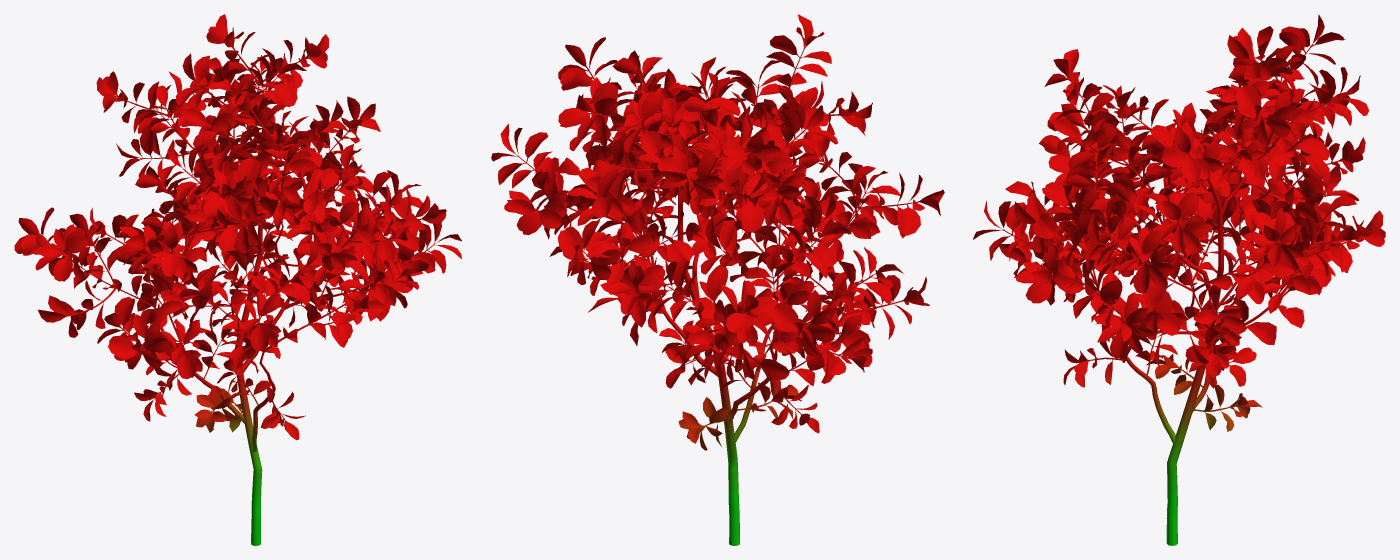
The model's file is Var10_LOD0.fbx.
3 renders of one model, left to right at view 1: azimuth 30°, elevation 25°; view 2: azimuth 150°, elevation 25°; view 3: azimuth 270°, elevation 25°, orthographic. The views are drawn at different scales.
Parts seen in each view (by area): view 1: _b3x4_Var10_LOD0; view 2: _b3x4_Var10_LOD0; view 3: _b3x4_Var10_LOD0.
Part boxes in pixels (x1,y1,x2,y2): _b3x4_Var10_LOD0: (14,14,461,545); _b3x4_Var10_LOD0: (491,14,944,545); _b3x4_Var10_LOD0: (973,14,1385,545).
Size of the model in its own units: 146 by 175 by 129.
